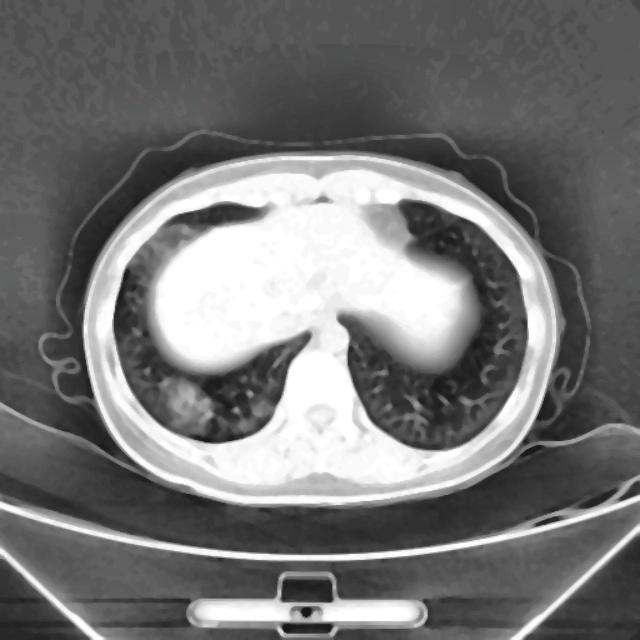covid: (77, 147, 565, 506)
